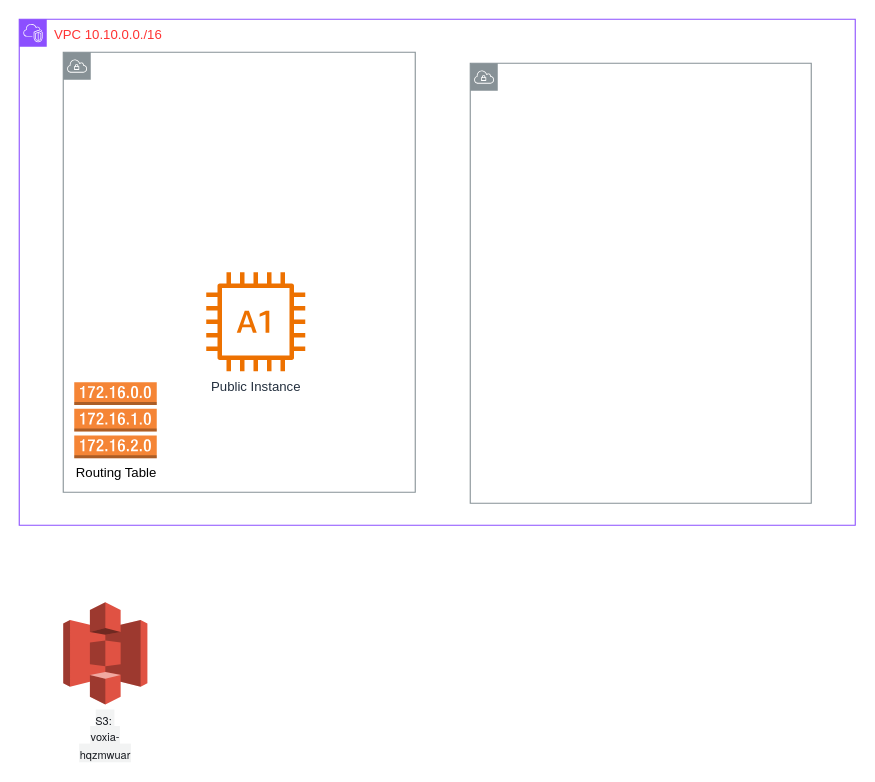
Some shapes in this 875 by 782 pixel diagram are drawn without their labels. Here are the shapes that lost their labels. From the top down, the box of each, then its label:
(62, 51, 415, 492): Public Subnet 10.10.0.0/24
(469, 62, 811, 503): Private Subnet 10.10.1.0/24
